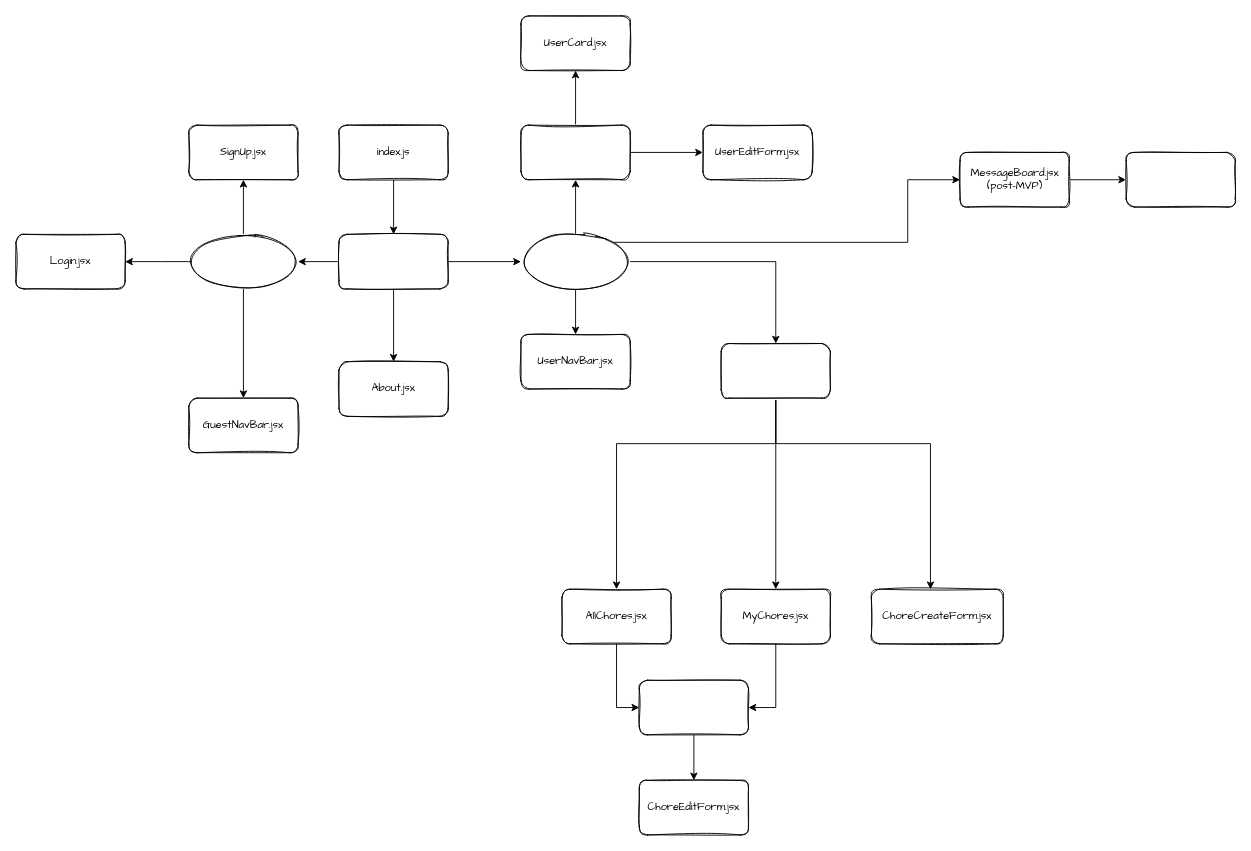
This 1251x851 diagram has some shape labels left out. The centre of each missing label's shape, as x and y in pixels:
"App.js" goes at point 393,261.
"ChoreCard.jsx" goes at point 693,707.
"Chores.jsx" goes at point 775,370.
"if logged in" goes at point 575,261.
"if logged out" goes at point 243,261.
"MessageCard.jsx (post-MVP)" goes at point 1180,179.
"Users.jsx" goes at point 575,152.
